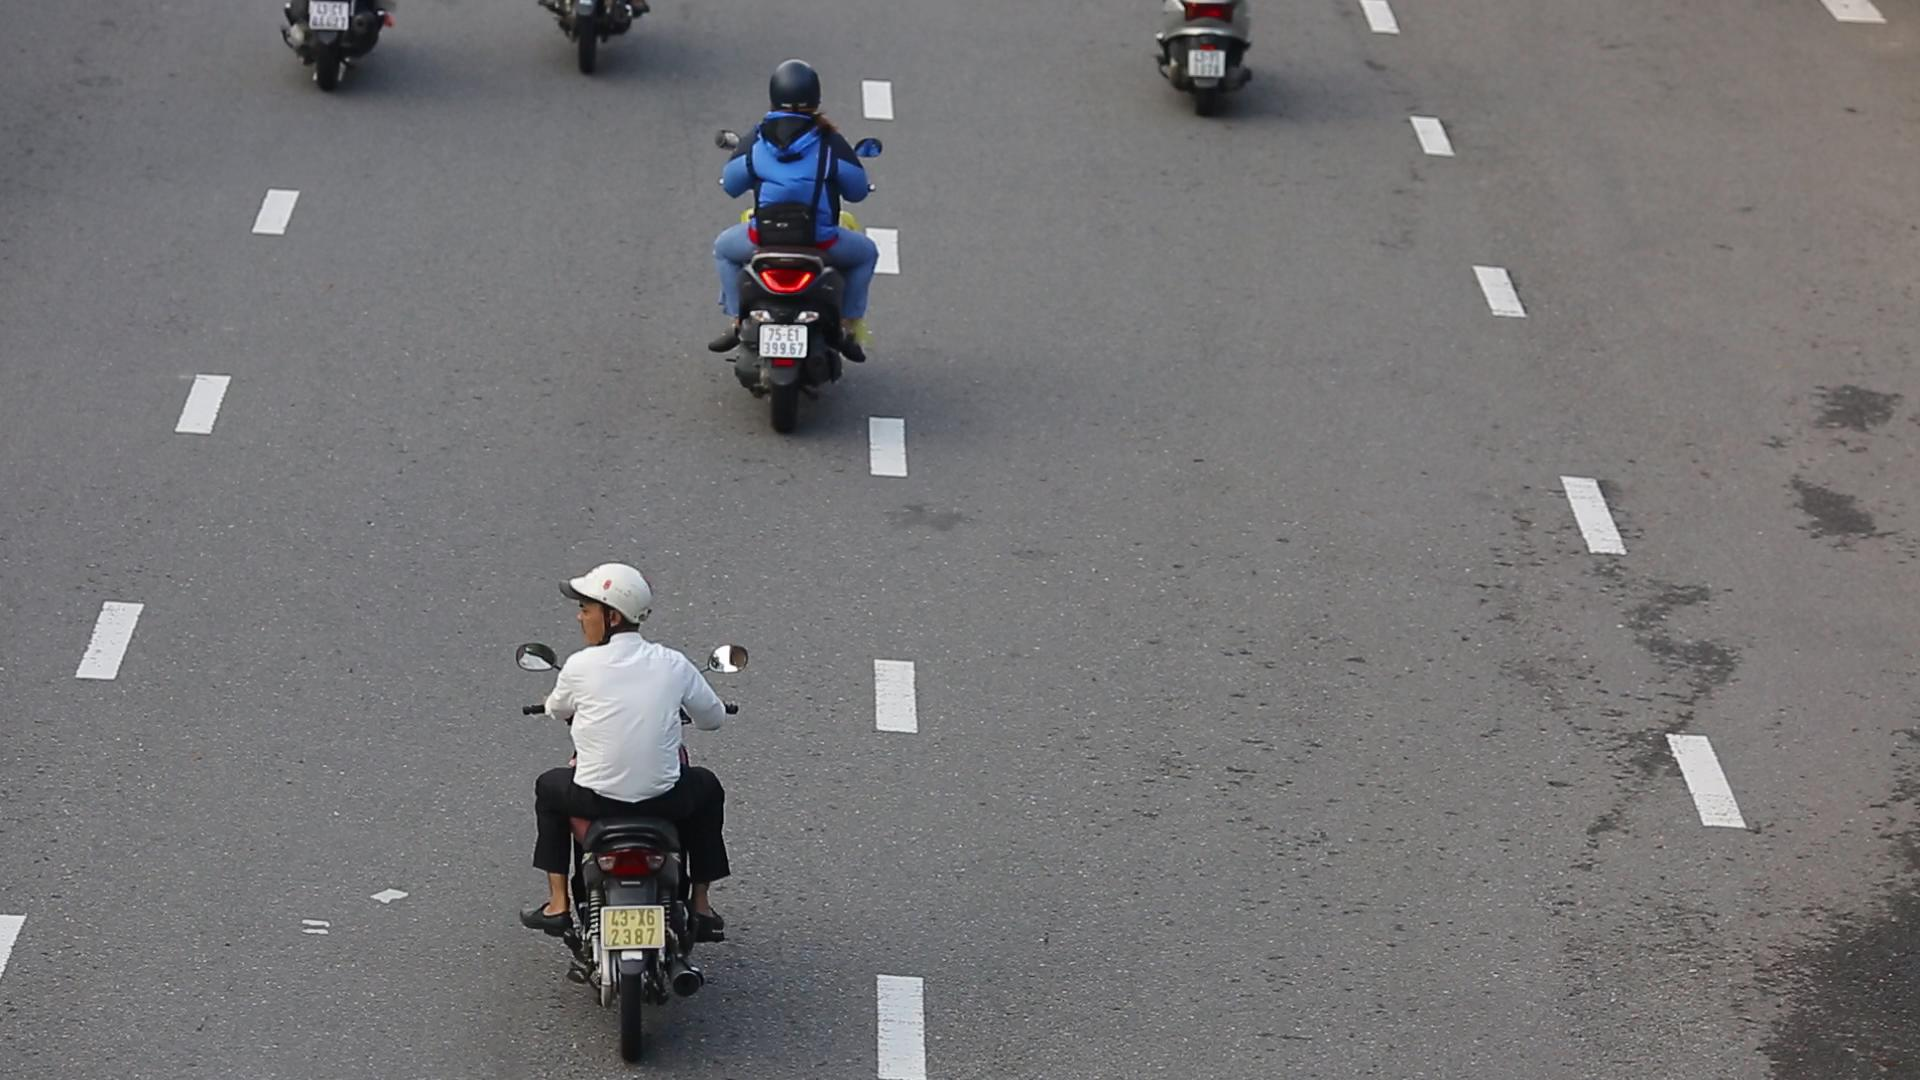motobike: (510, 562, 754, 1050), (708, 62, 893, 452)
